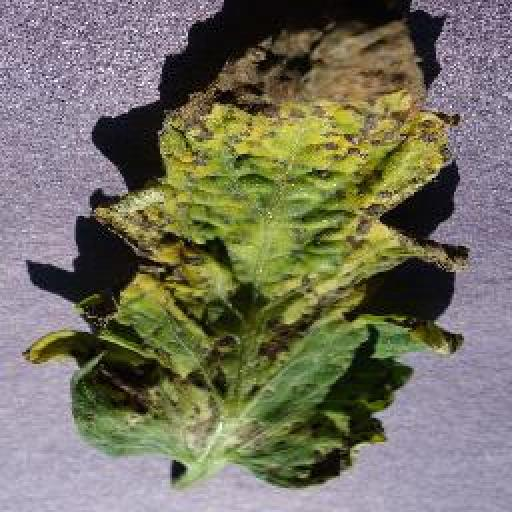disease_tomato: (26, 8, 461, 488)
